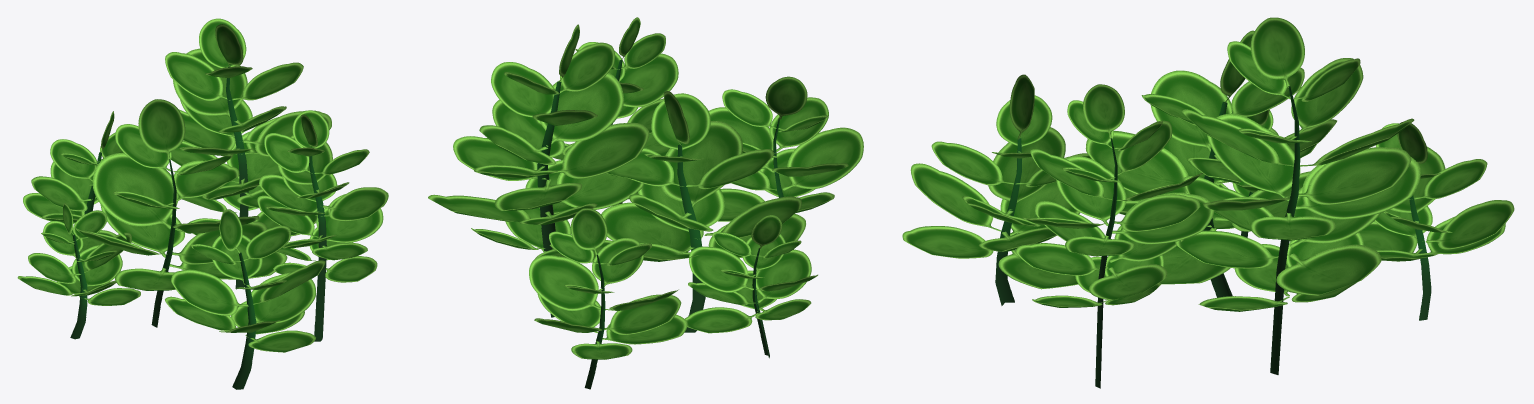
File: SM_RoundLeaf_Cluster.fbx
The picture shows the model from 3 angles, left to right: view 1: azimuth 30°, elevation 25°; view 2: azimuth 150°, elevation 25°; view 3: azimuth 270°, elevation 25°; orthographic projection. The views are drawn at different scales.
Visible parts, largest first — view 1: SM_RoundLeaf_Cluster; view 2: SM_RoundLeaf_Cluster; view 3: SM_RoundLeaf_Cluster.
Boxes of the visible parts, <box> form: SM_RoundLeaf_Cluster: <box>17,18,388,389</box>; SM_RoundLeaf_Cluster: <box>428,17,863,389</box>; SM_RoundLeaf_Cluster: <box>902,17,1514,388</box>.
Bounding box in the file's own units: 48.86 × 64.14 × 40.67.
